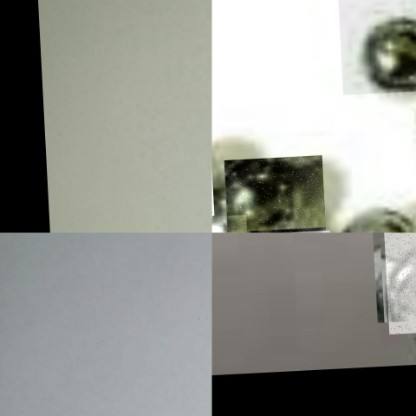ironball: (336, 0, 415, 97), (221, 157, 322, 232), (380, 232, 415, 336), (412, 323, 415, 367)
